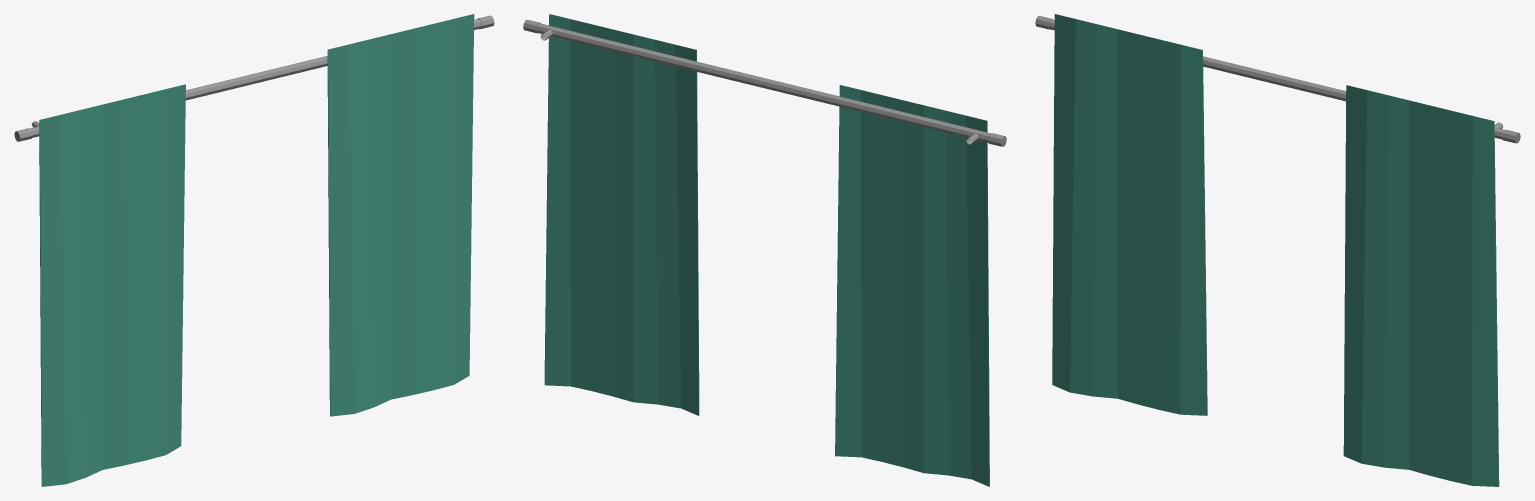
File: Curtains_8.fbx
3 views of the same model, side by side, from view 1: azimuth 30°, elevation 25°; view 2: azimuth 150°, elevation 25°; view 3: azimuth 330°, elevation 25° (orthographic).
Parts seen in each view (by area): view 1: Curtains_8; view 2: Curtains_8; view 3: Curtains_8.
Boxes of the visible parts, <box> form: Curtains_8: <box>14,14,494,486</box>; Curtains_8: <box>523,14,1006,486</box>; Curtains_8: <box>1035,14,1520,486</box>.
Size of the model in its own units: 450 by 28.12 by 331.
